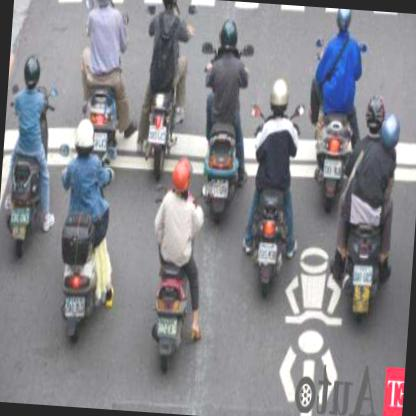motorcycle: (326, 95, 403, 323), (44, 115, 118, 346), (143, 160, 214, 376), (240, 75, 307, 298), (189, 17, 255, 225), (302, 7, 367, 216), (0, 52, 62, 257), (133, 0, 200, 185), (75, 0, 137, 167)
